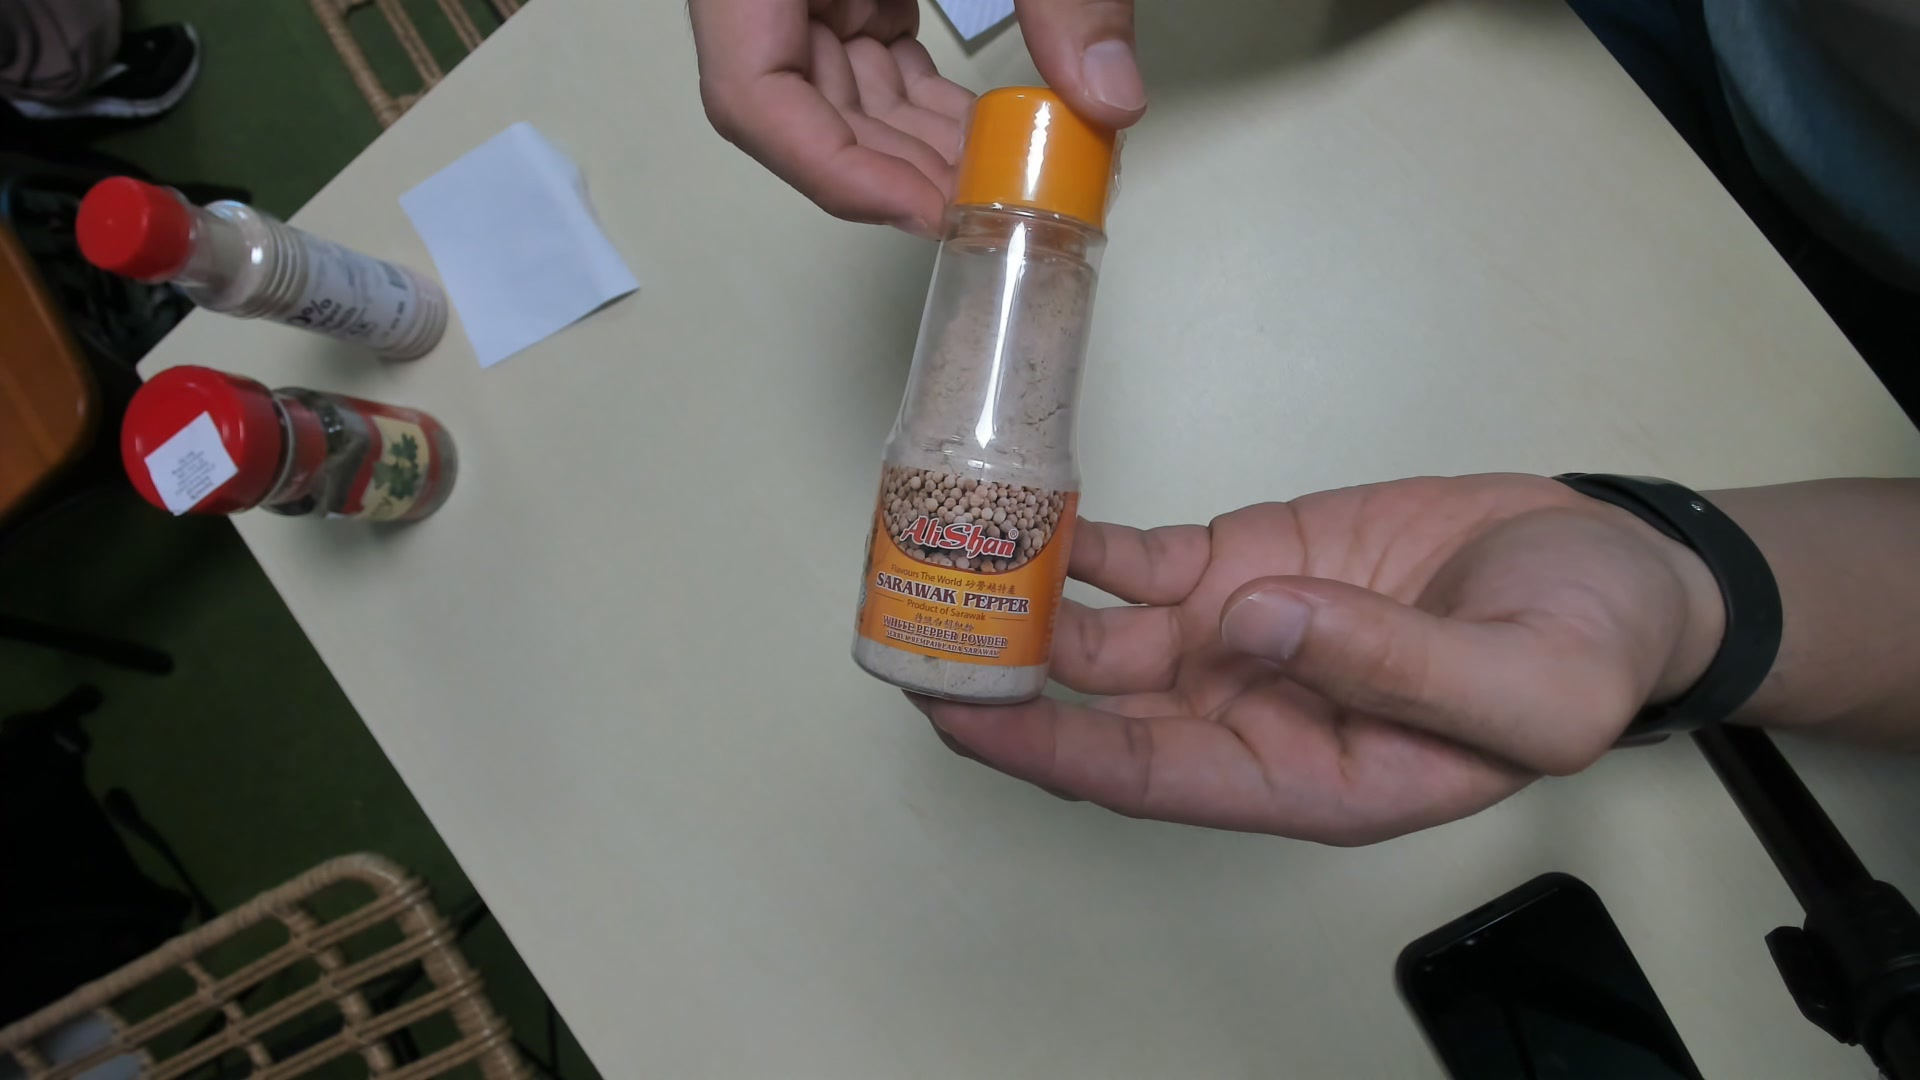HerbsSpicesPepper_400-499g_Halal_NonHealthy: (849, 94, 1129, 699)
